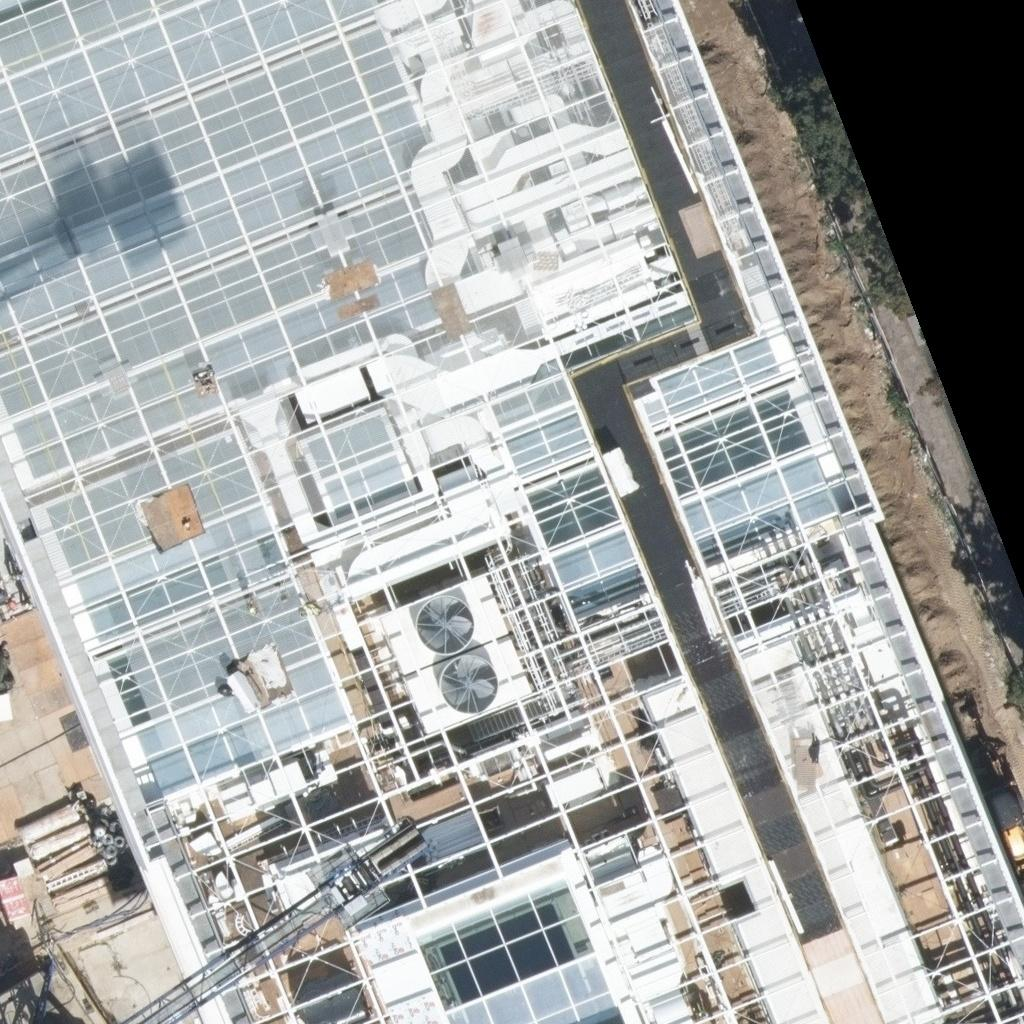zuraw_wiezowy: (116, 817, 435, 1024)
